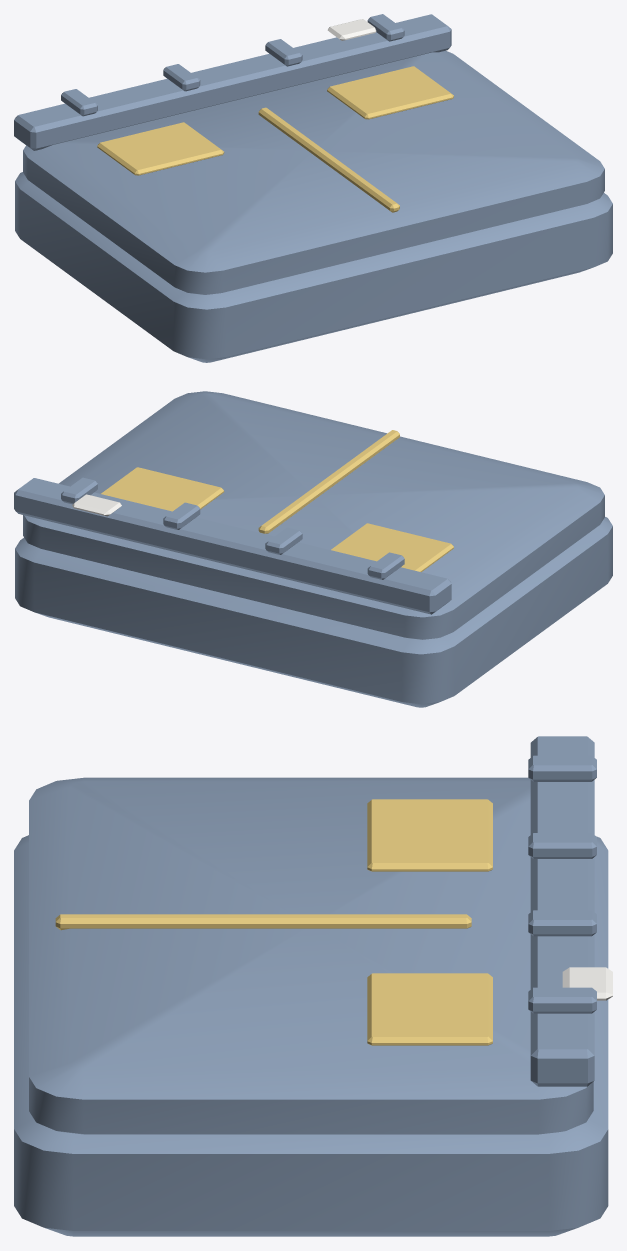
File: folded-jeans.glb
3 renders of one model, top to bottom at view 1: azimuth 30°, elevation 25°; view 2: azimuth 150°, elevation 25°; view 3: azimuth 270°, elevation 25°, orthographic. The views are drawn at different scales.
Visible parts, largest first — view 1: jeans-folded; view 2: jeans-folded; view 3: jeans-folded.
Boxes of the visible parts, x1=… form: jeans-folded: x1=14, y1=14, x2=612, y2=362; jeans-folded: x1=14, y1=391, x2=612, y2=707; jeans-folded: x1=14, y1=736, x2=612, y2=1236.
Size of the model in its own units: 0.34 by 0.1039 by 0.262.
